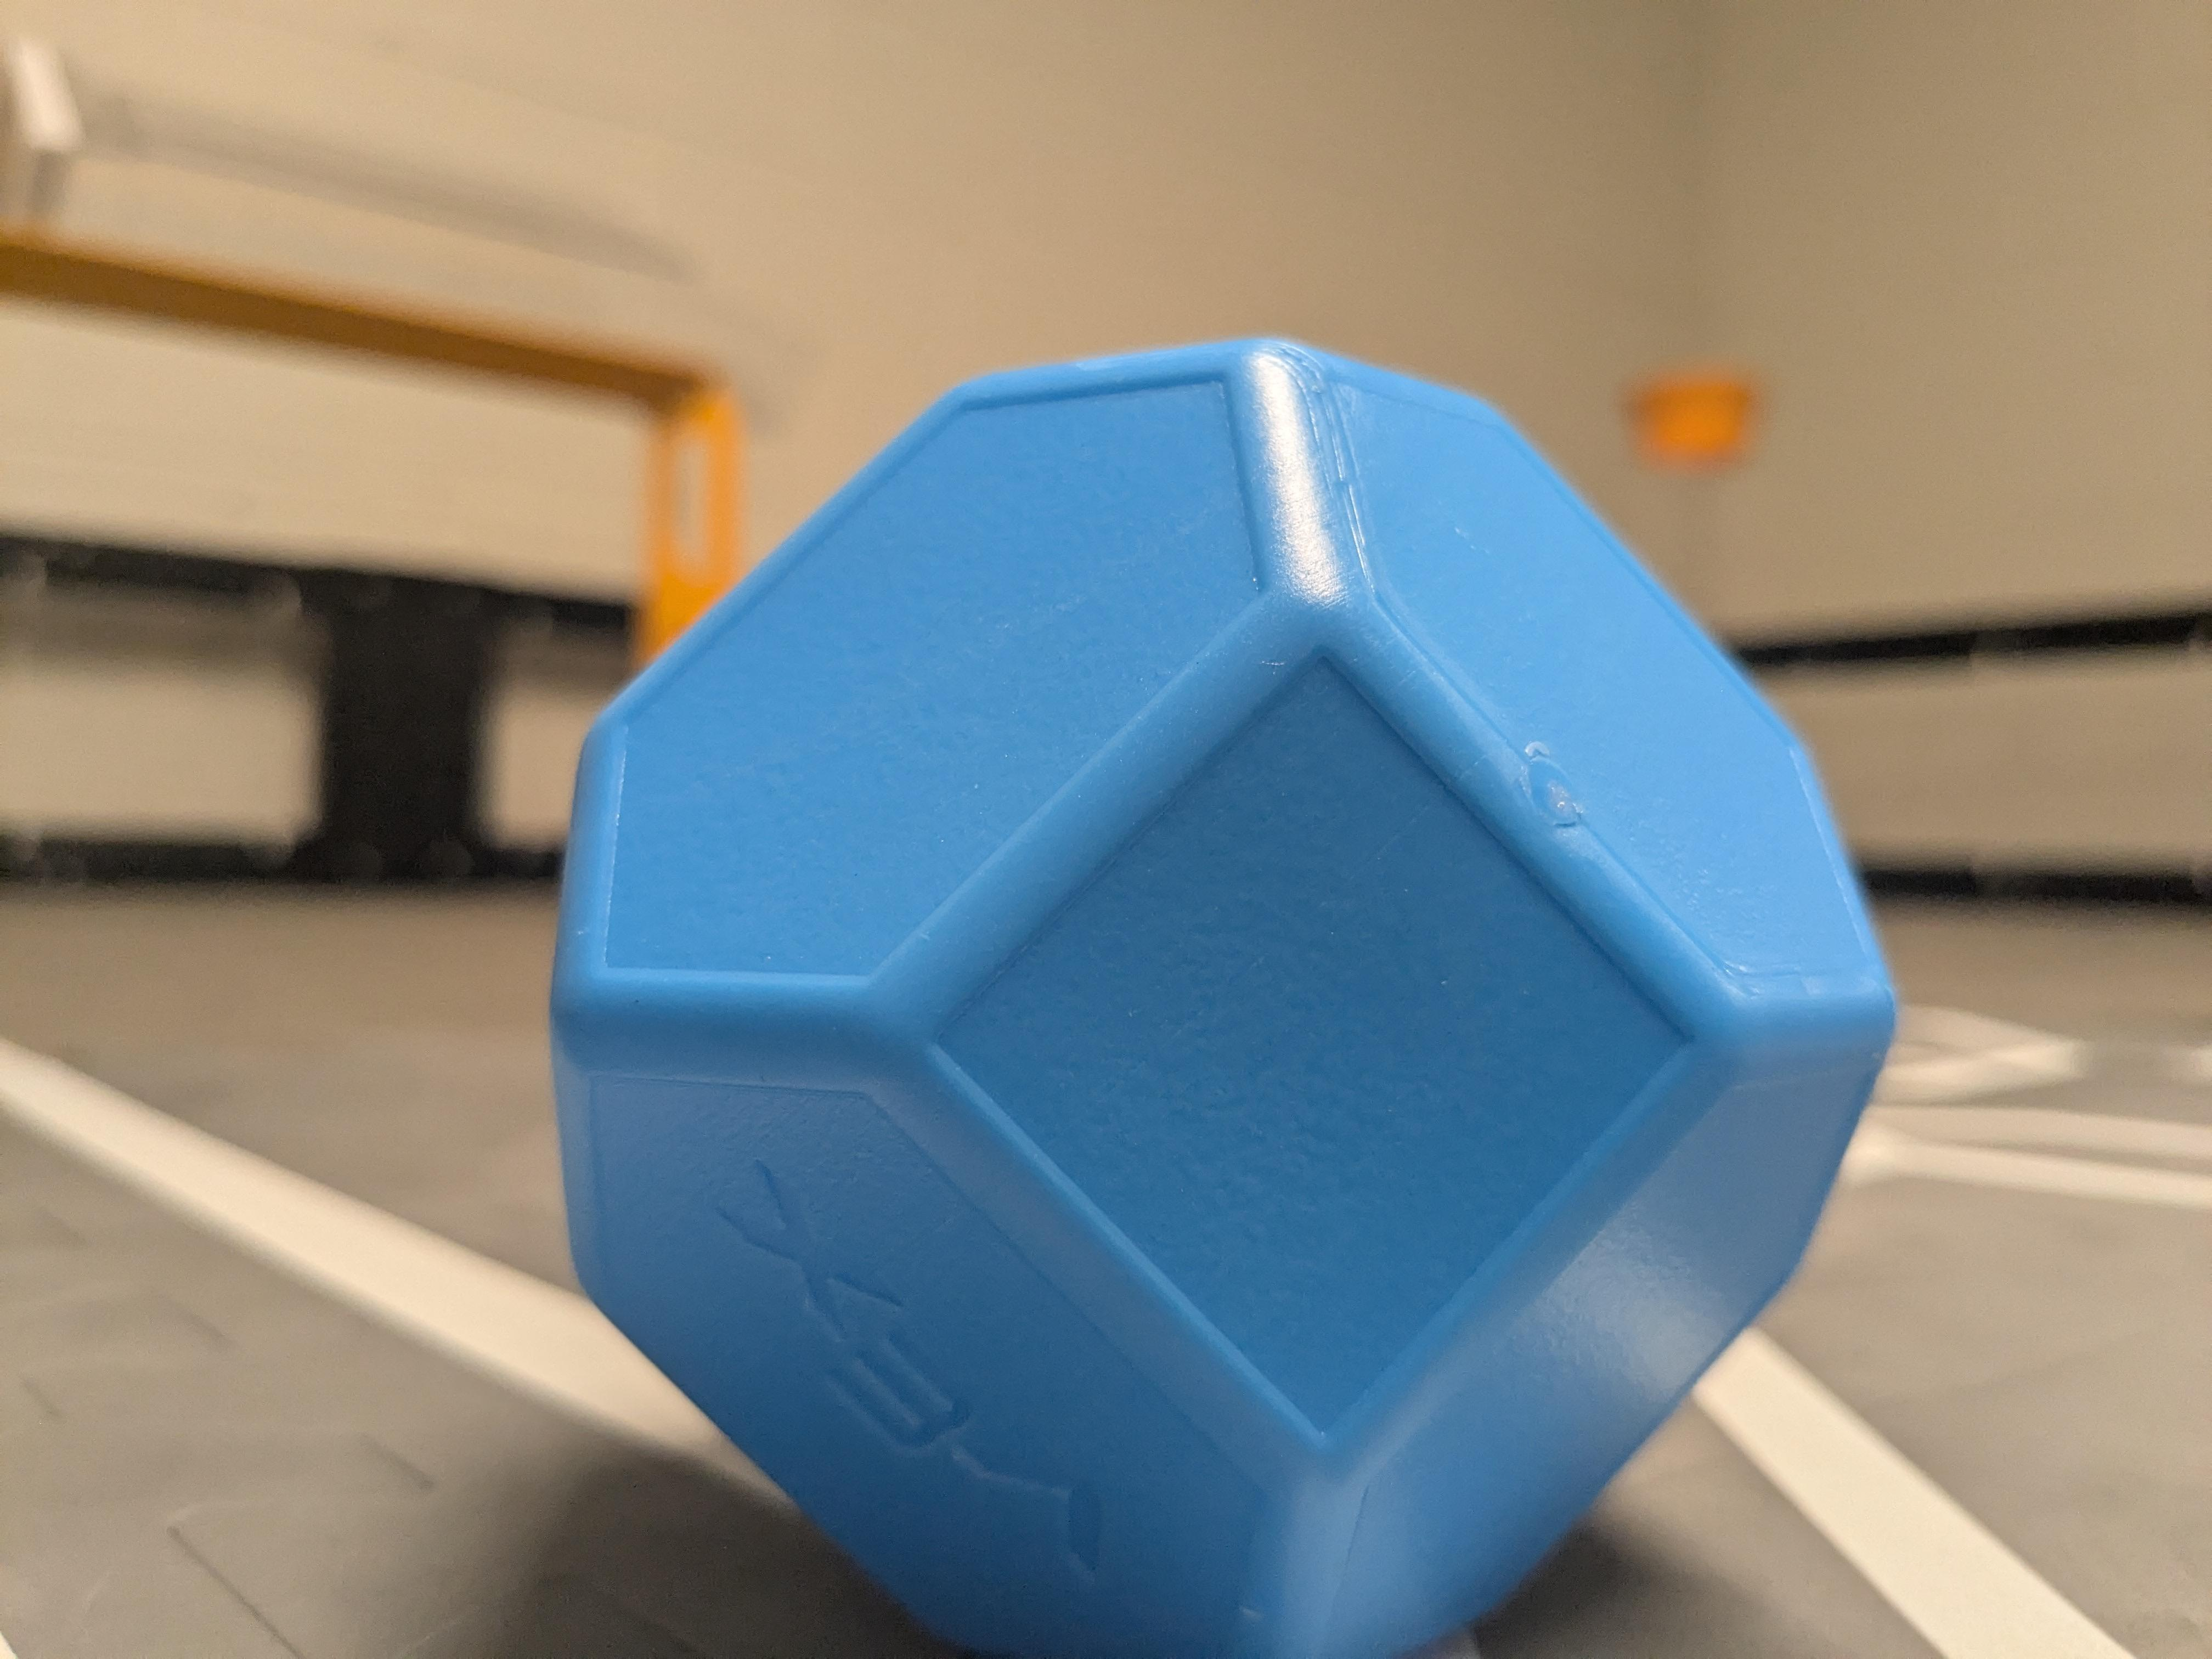Vex-Pieces-BLUE: (554, 340, 1895, 1654)
